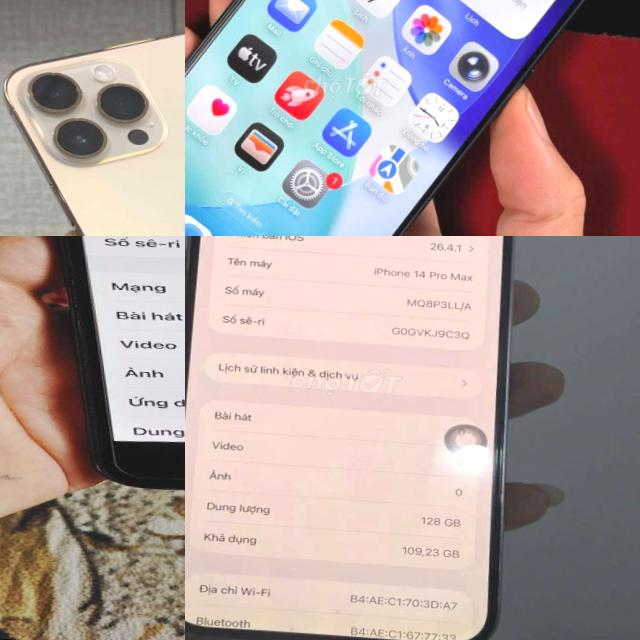gen_14: (185, 236, 552, 640), (0, 7, 185, 236)
gen_17: (185, 0, 640, 236)
gen_7_8: (56, 236, 185, 488)
